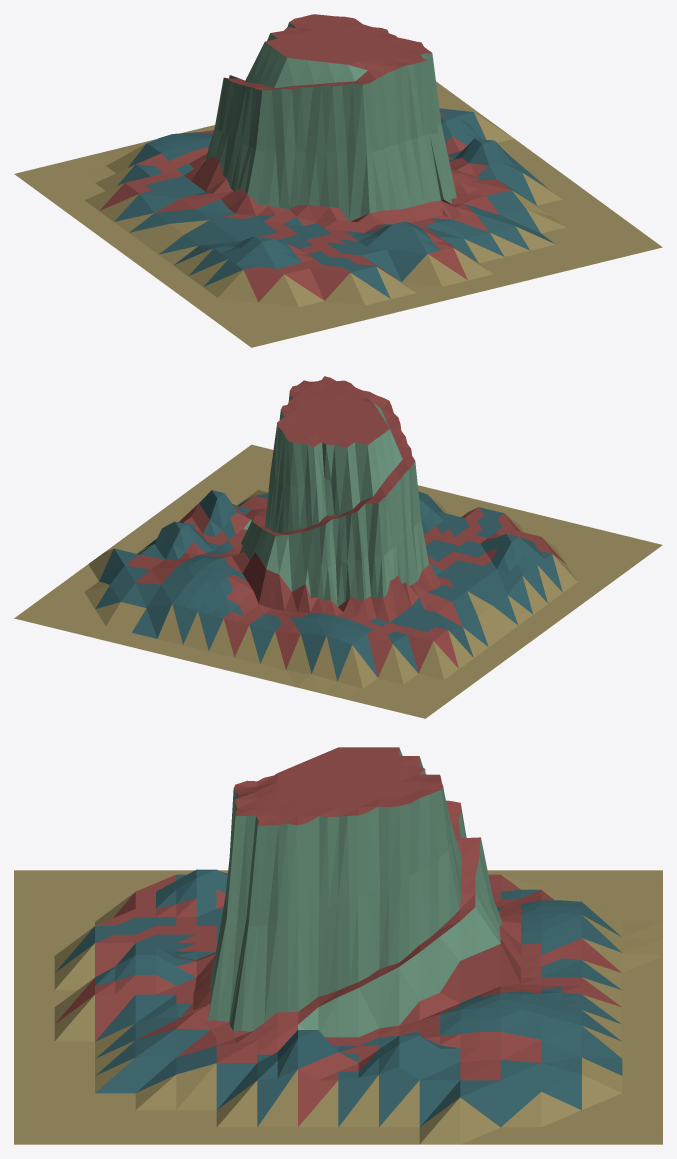
The model's file is kiosqueIsland2.fbx.
3 views of the same model, one above another, from view 1: azimuth 30°, elevation 25°; view 2: azimuth 150°, elevation 25°; view 3: azimuth 270°, elevation 25° (orthographic). The views are drawn at different scales.
Parts seen in each view (by area): view 1: Plane; view 2: Plane; view 3: Plane.
Part boxes in pixels (x1,y1,x2,y2): Plane: (14, 14, 662, 347); Plane: (14, 376, 662, 718); Plane: (14, 747, 662, 1144).
Bounding box in the file's own units: 6 × 2.32 × 6.
